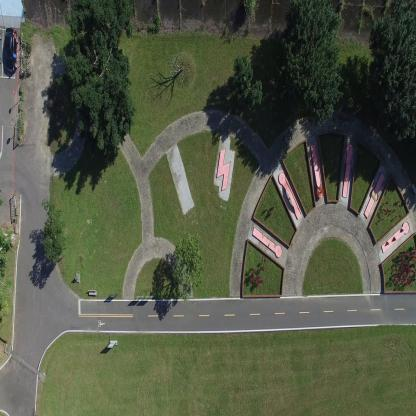car: (3, 26, 18, 71), (0, 30, 3, 67)
